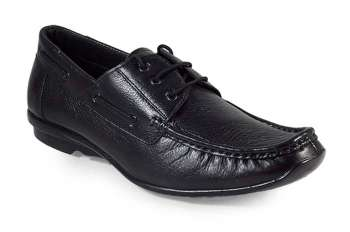Footwear: (23, 22, 329, 199)
